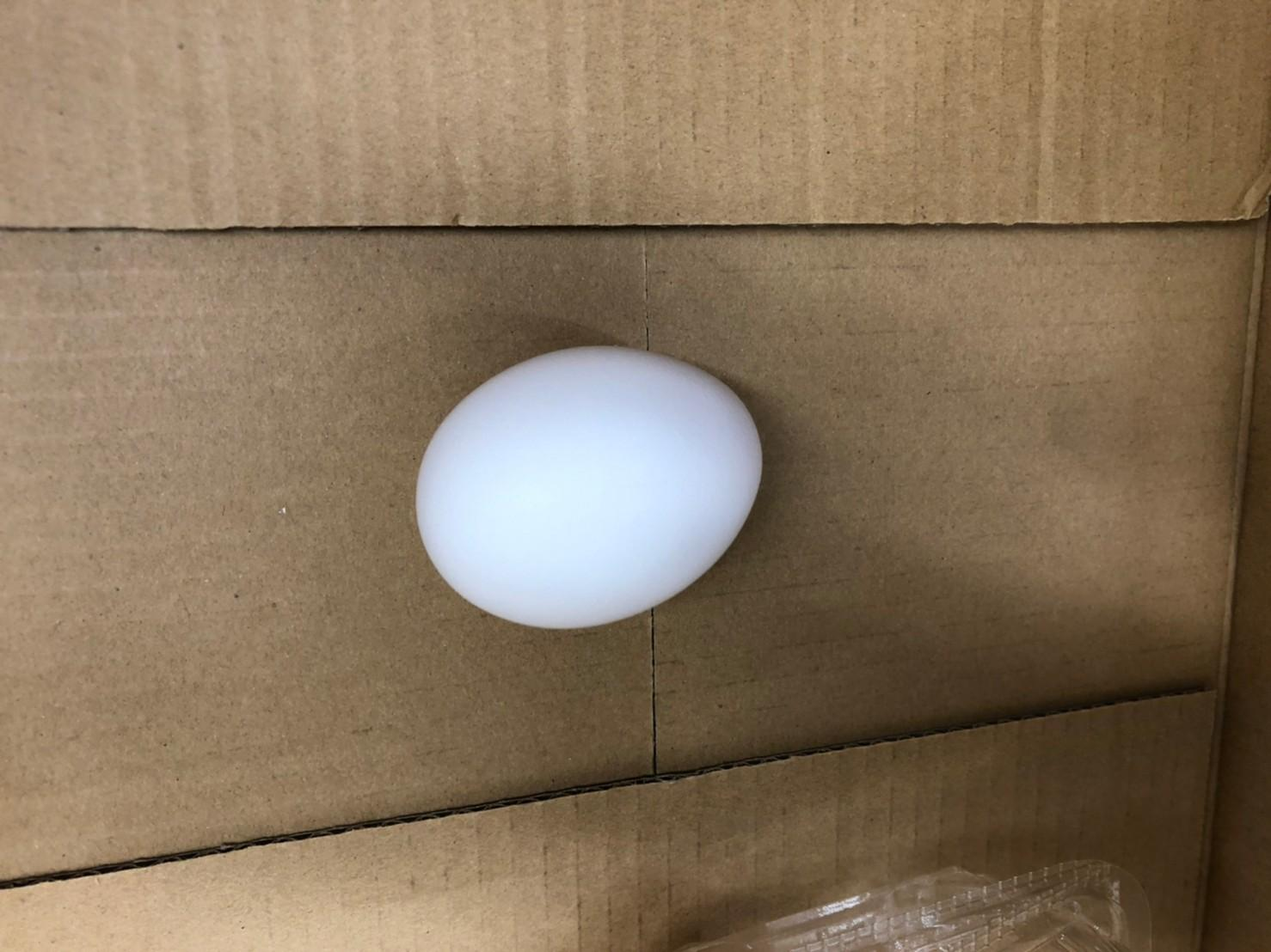egg: (410, 343, 777, 636)
